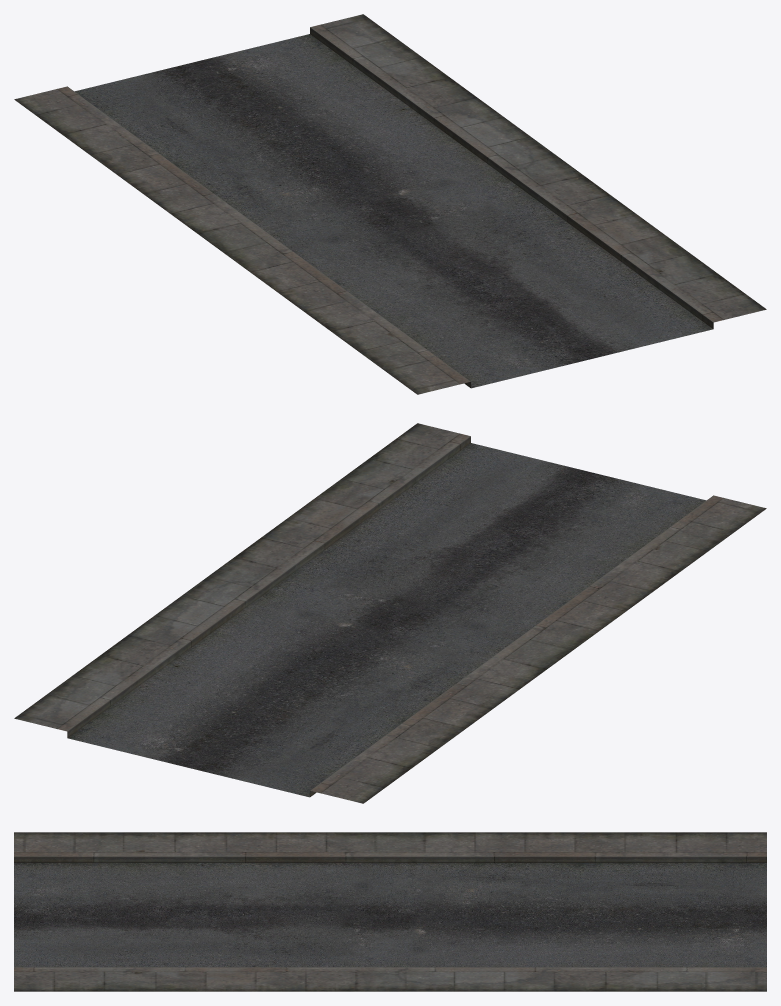
File: Road_set_v1_s_tile_2 (7).glb
3 renders of one model, top to bottom at view 1: azimuth 30°, elevation 25°; view 2: azimuth 150°, elevation 25°; view 3: azimuth 270°, elevation 25°, orthographic. The views are drawn at different scales.
Visible parts, largest first — view 1: Road_set_v1_s_tile_2 (7); view 2: Road_set_v1_s_tile_2 (7); view 3: Road_set_v1_s_tile_2 (7).
Boxes of the visible parts, x1,y1,x2,y2 form: Road_set_v1_s_tile_2 (7): (14, 14, 766, 394); Road_set_v1_s_tile_2 (7): (14, 423, 766, 803); Road_set_v1_s_tile_2 (7): (14, 832, 766, 991).
Size of the model in its own units: 10 by 0.1836 by 20.
1 material, 1 textured.
